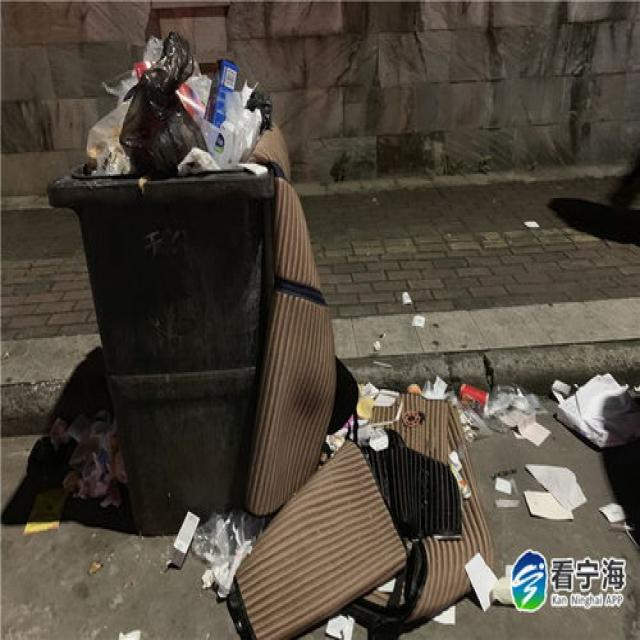garbage: (164, 372, 639, 638), (50, 408, 127, 507)
overflow: (46, 32, 277, 532)
